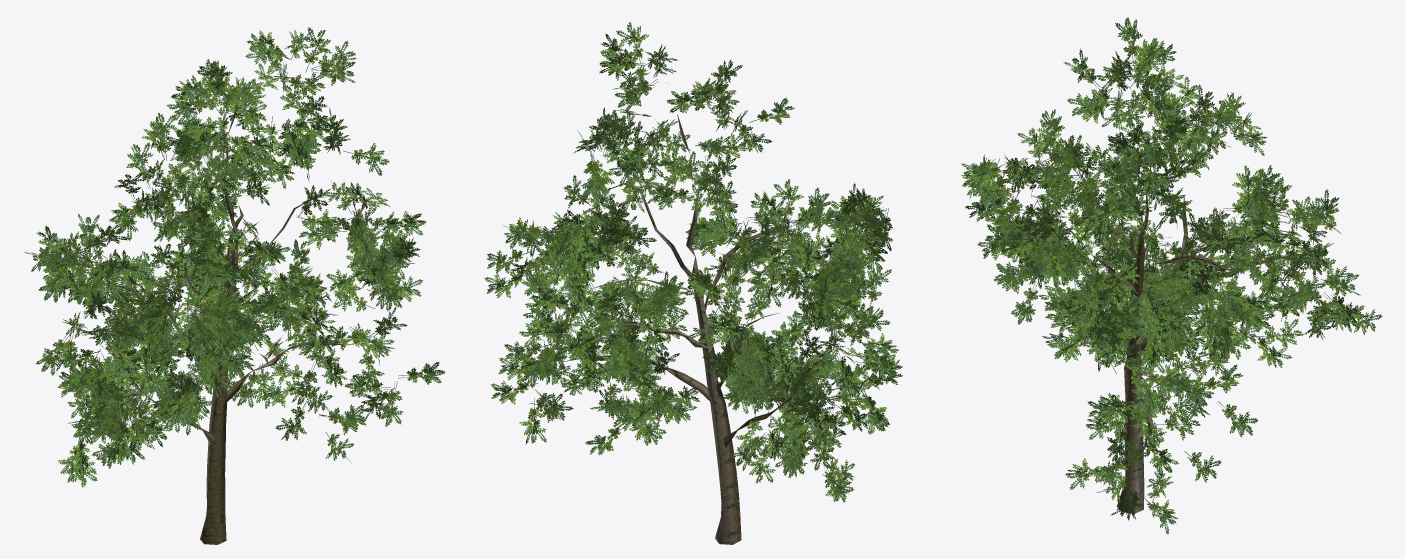
The model's file is tree_04_large.glb.
3 views of the same model, side by side, from view 1: azimuth 30°, elevation 25°; view 2: azimuth 150°, elevation 25°; view 3: azimuth 270°, elevation 25° (orthographic). The views are drawn at different scales.
Visible parts, largest first — view 1: tree_04; view 2: tree_04; view 3: tree_04.
Part boxes in pixels (bbox=[...]): tree_04: bbox=[24, 27, 444, 544]; tree_04: bbox=[484, 22, 902, 544]; tree_04: bbox=[961, 17, 1382, 534].
Size of the model in its own units: 18.77 by 21.72 by 17.17.
Materials: 3 (3 with a texture image).
